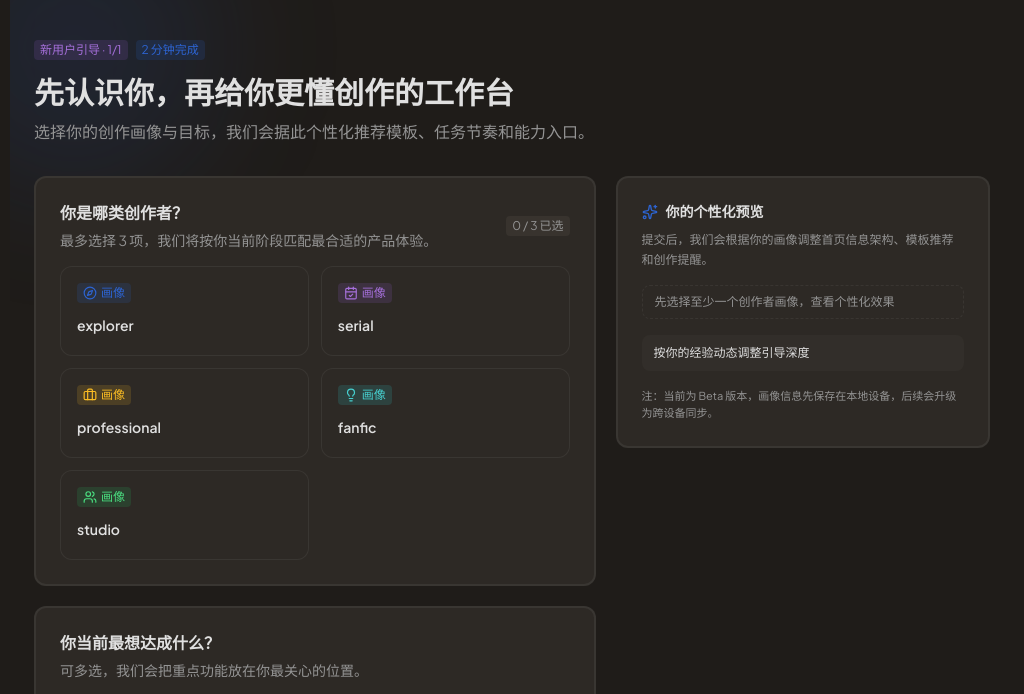
OnboardingPersonaPage › enforces max persona selection limit
Click the button "画像 explorer": (184, 311) [60,266,309,356]
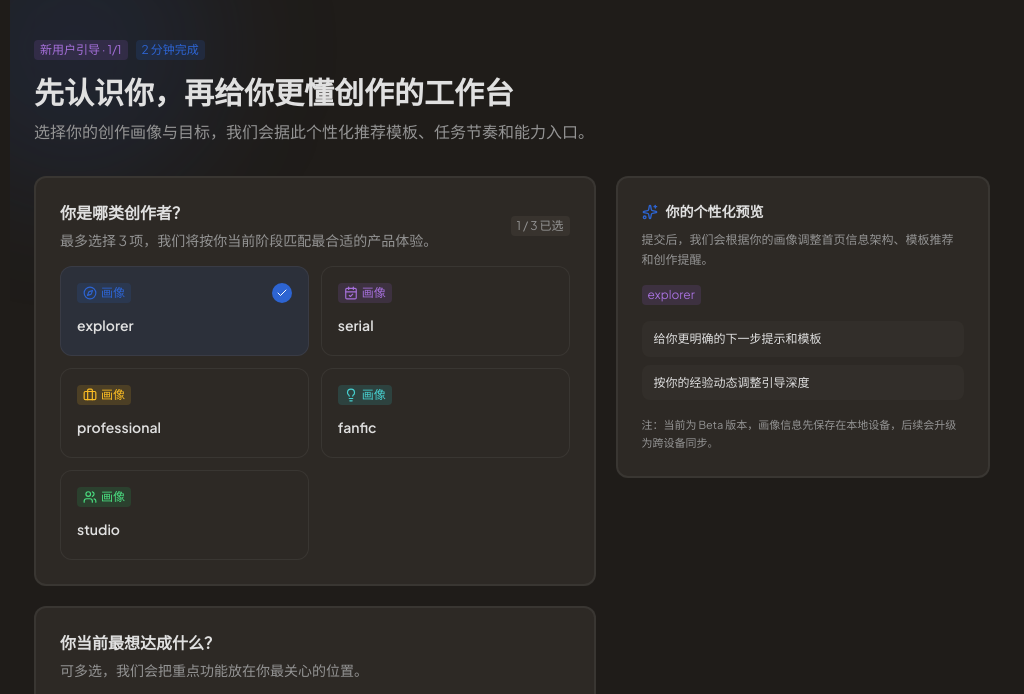
Click the button "画像 serial": (445, 311) [321,266,570,356]
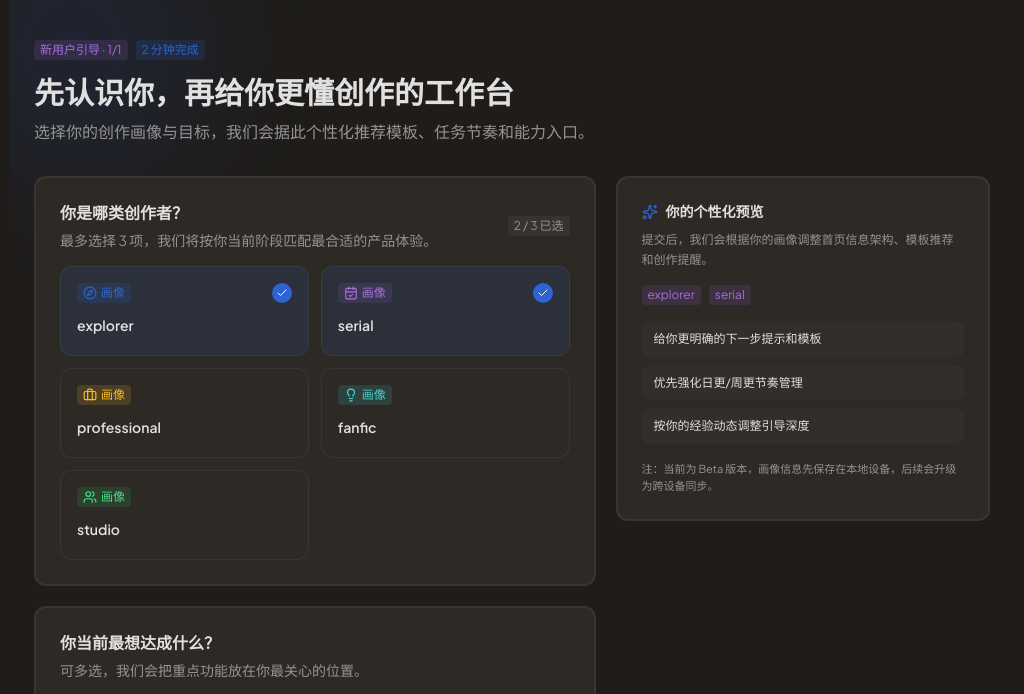
Click the button "画像 professional": (184, 413) [60,368,309,458]
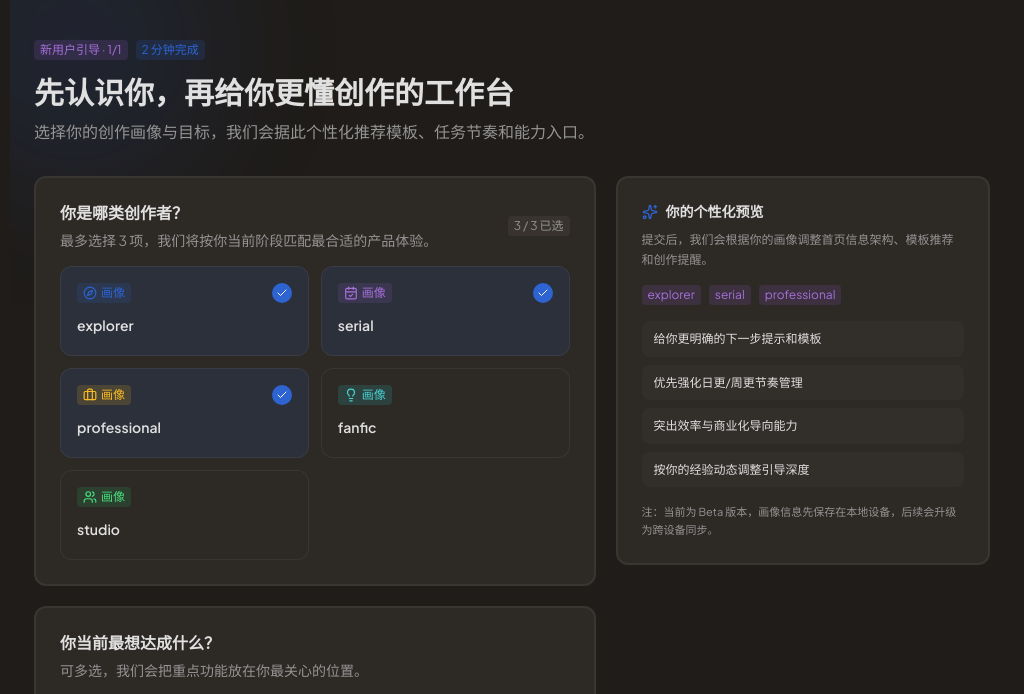
Click the button "画像 fanfic": (445, 413) [321,368,570,458]
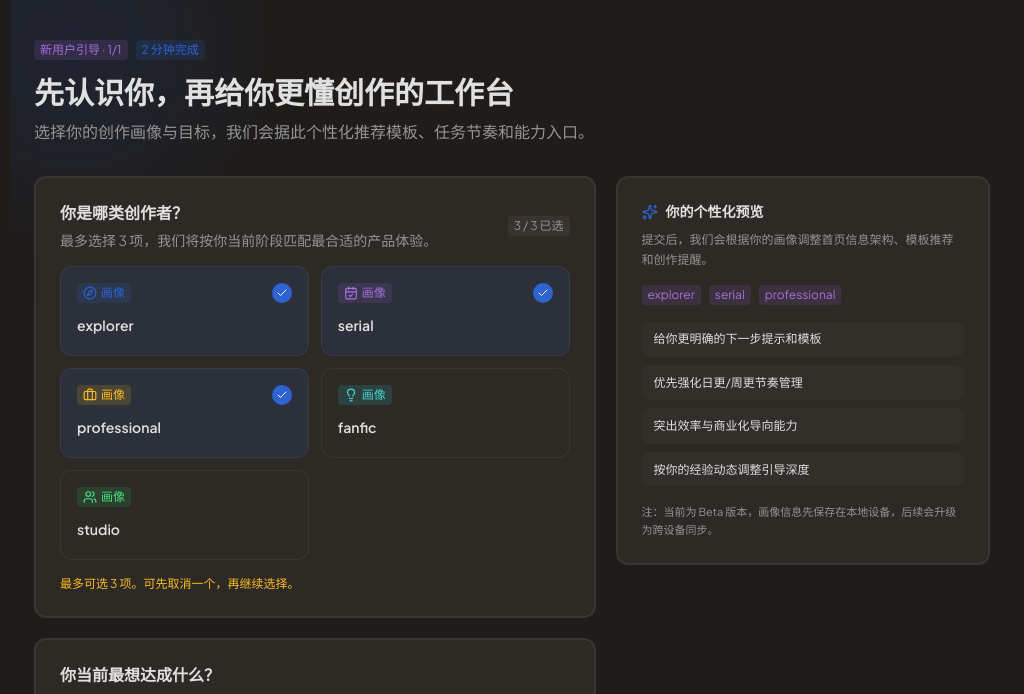
expect the text "3 / 3 已选" is shown: met, box [514,218,564,234]
expect the text "最多可选 3 项。可先取消一个，再继续选择。" is shown: met, box [60,576,299,591]
